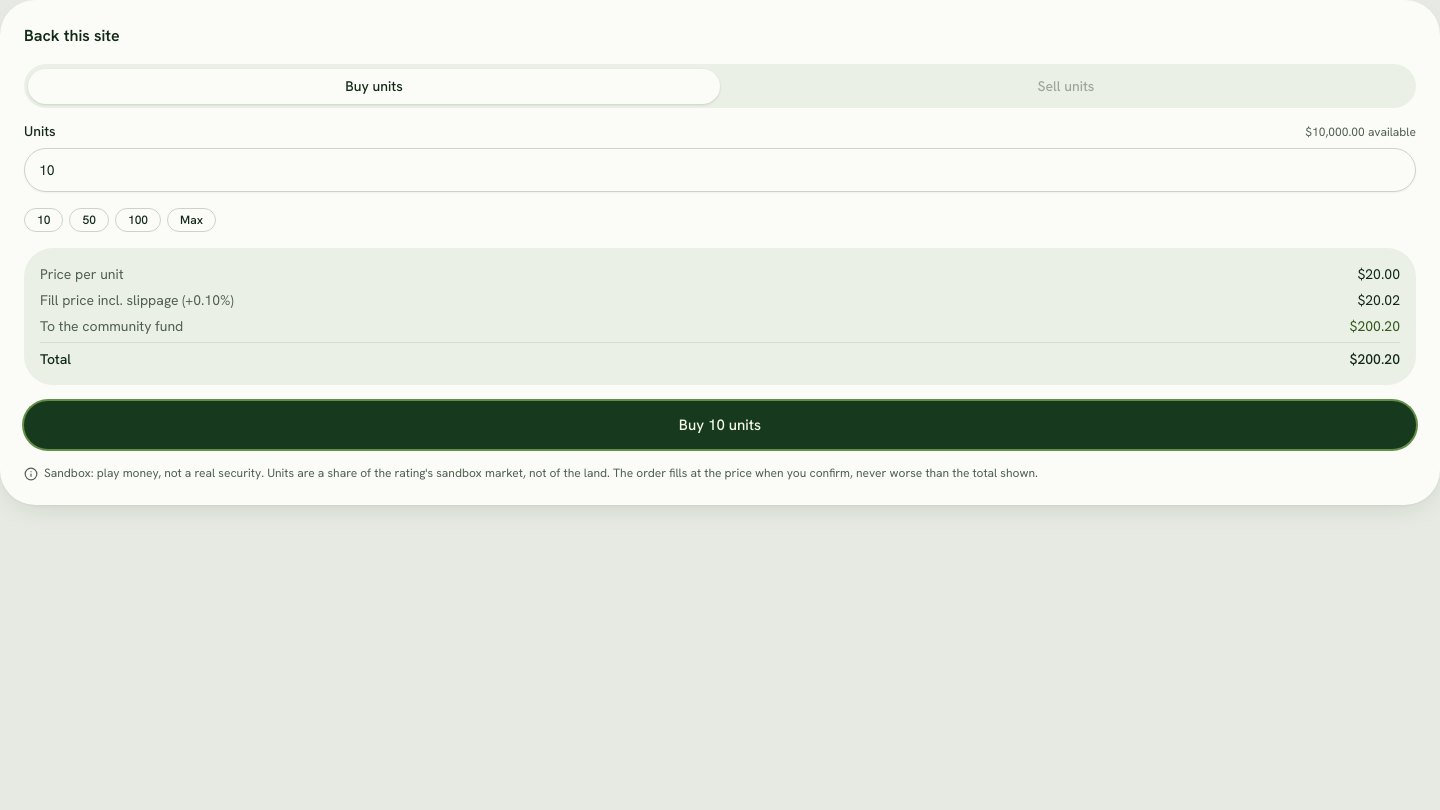
Test case: TradePanel › explains insufficient cash from the order and re-reads the balance
Expected: the element named "Quote" shows "$200.20", [1350,317,1400,335]
Step 1. Click the button "Buy 10 units" → (720, 425), box [24,401,1416,449]
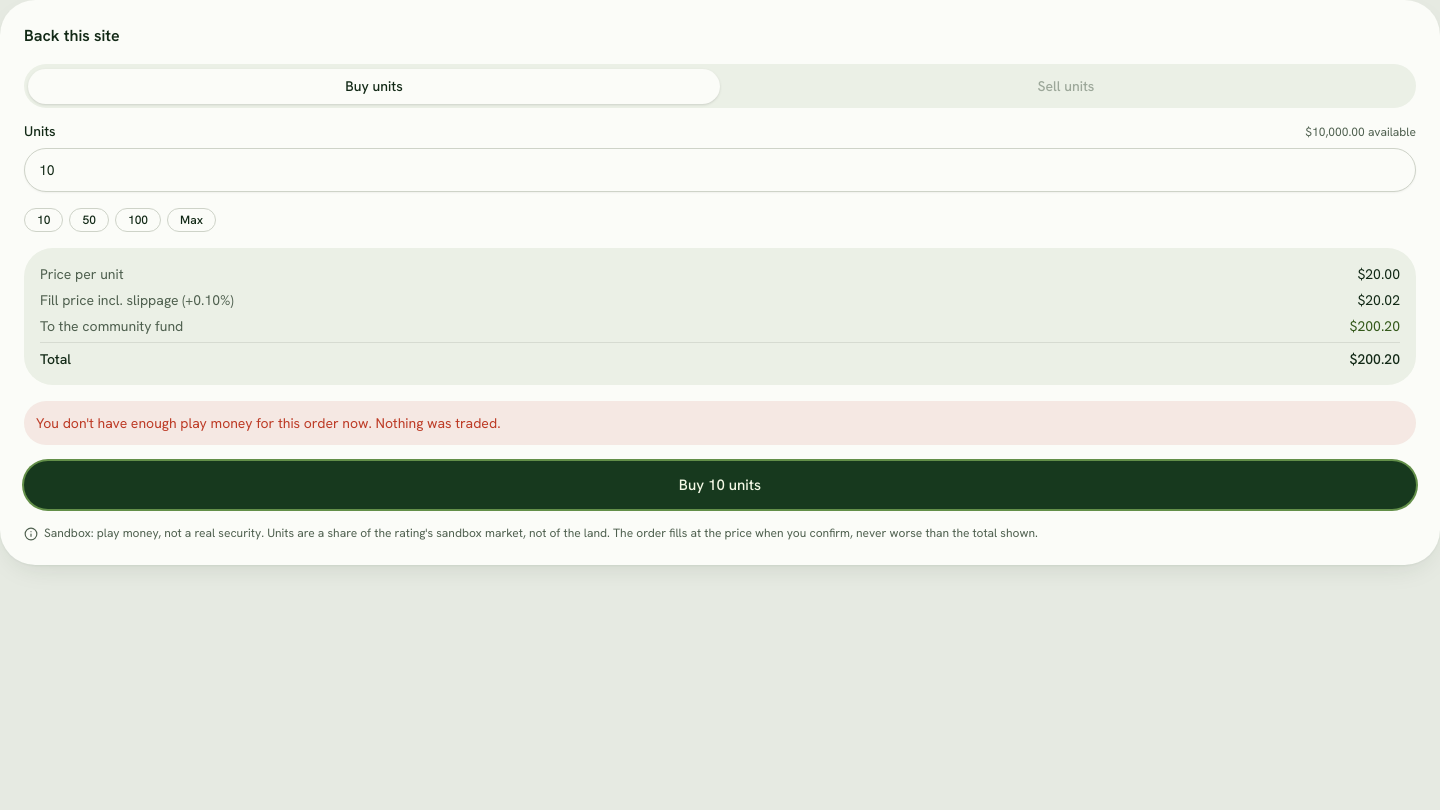
Now the message reads "You don't have enough play money for this order now. Nothing was traded.", box [36,414,500,432]
